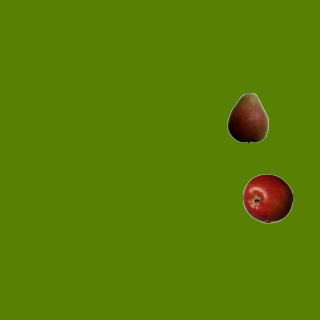Apple Braeburn: (242, 173, 292, 223)
Pear Forelle: (222, 92, 272, 142)
